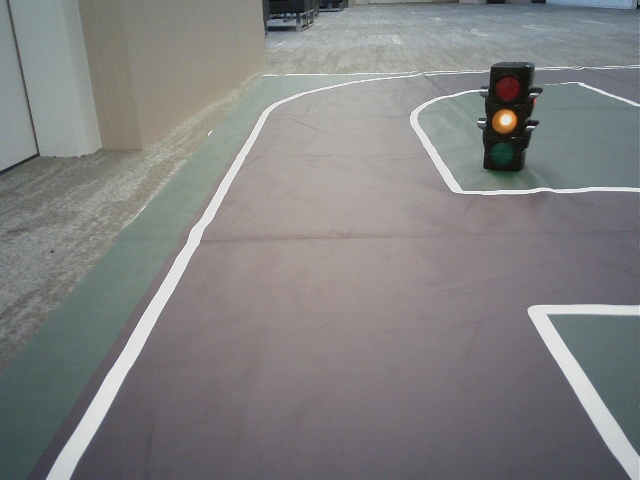yellow: (487, 72, 520, 164)
